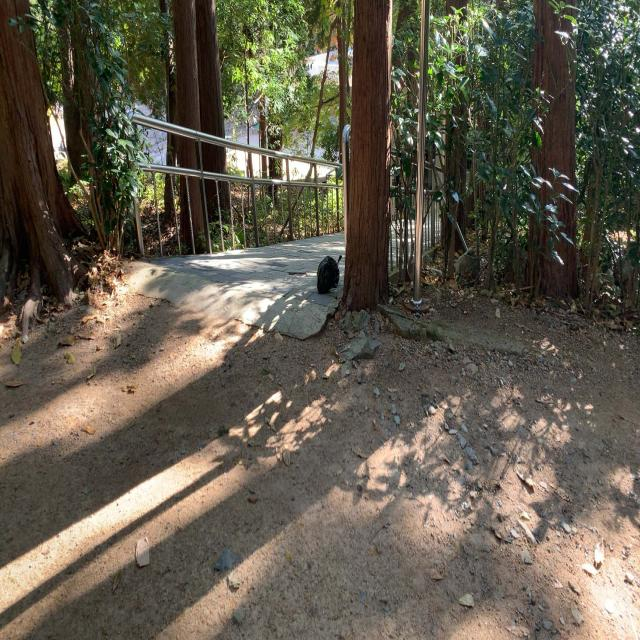garbage bag: (315, 252, 342, 296)
